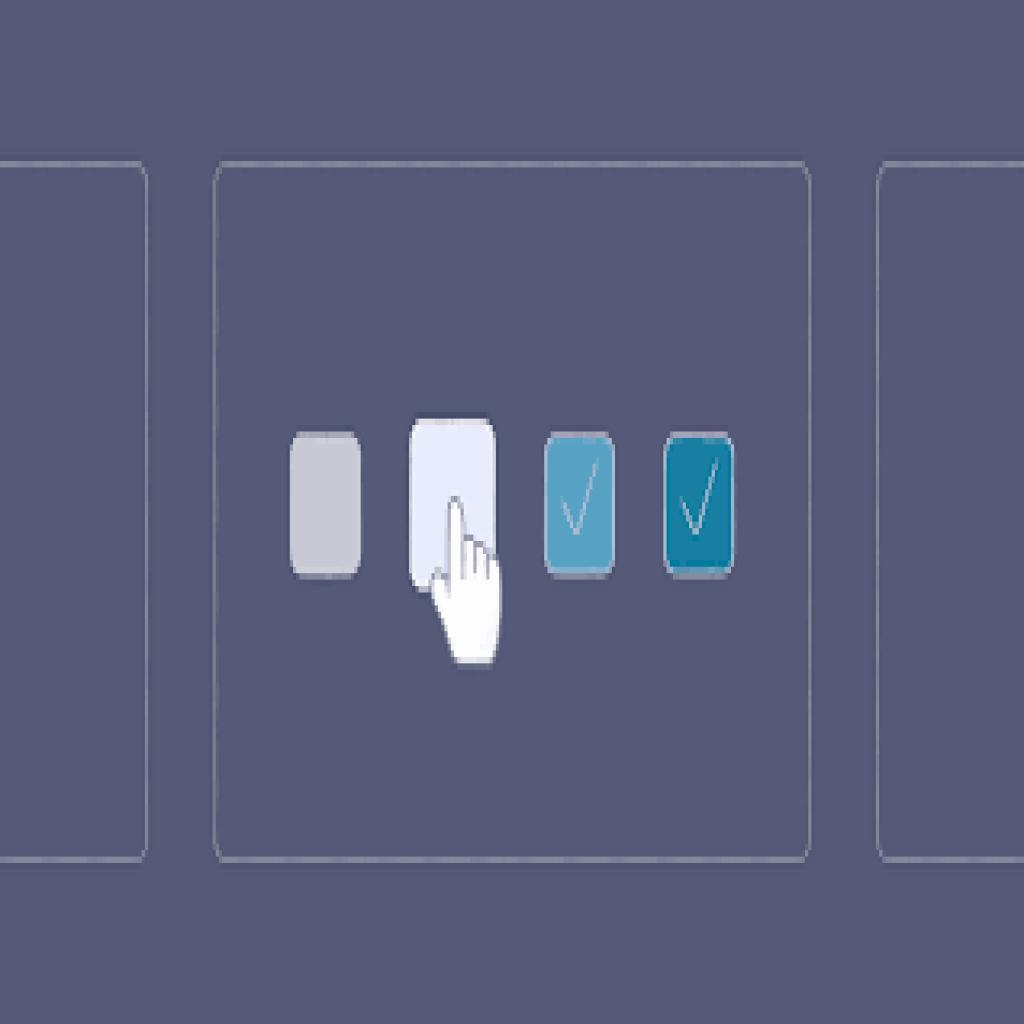checkbox: (662, 429, 744, 579), (287, 432, 365, 582), (541, 429, 617, 582)
